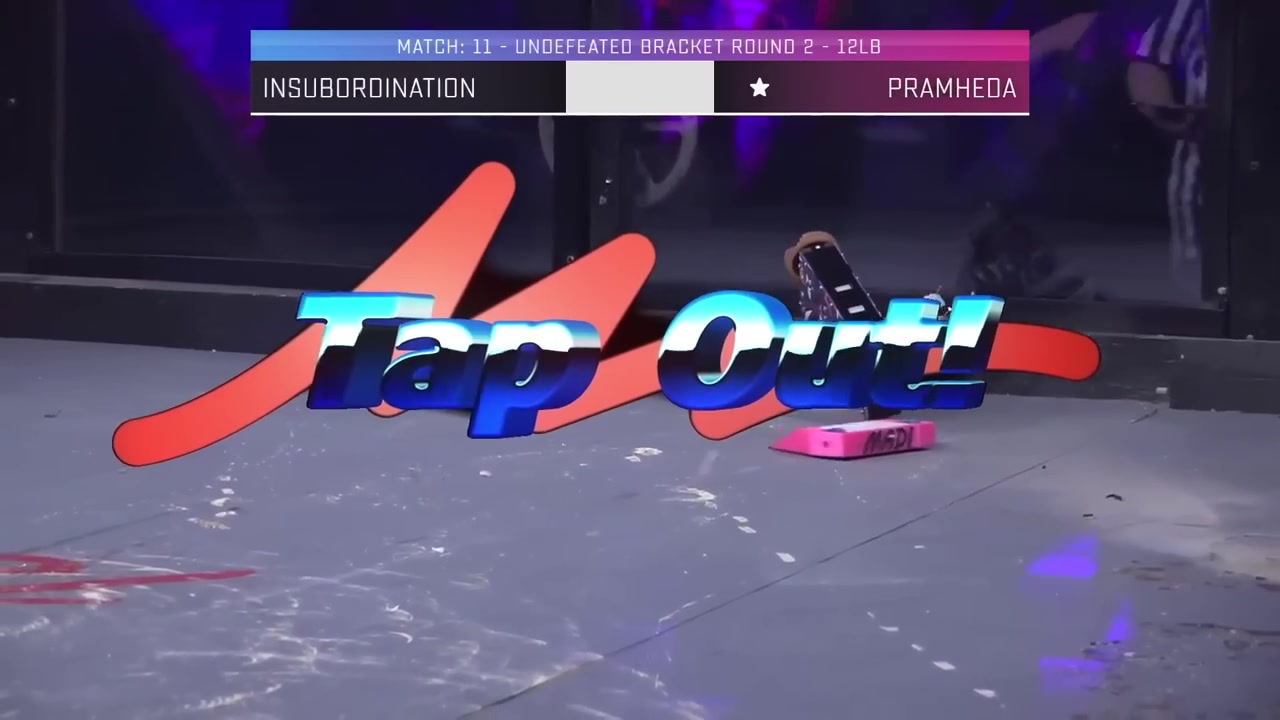combatbot: (774, 228, 890, 324)
minibot: (772, 411, 942, 465)
